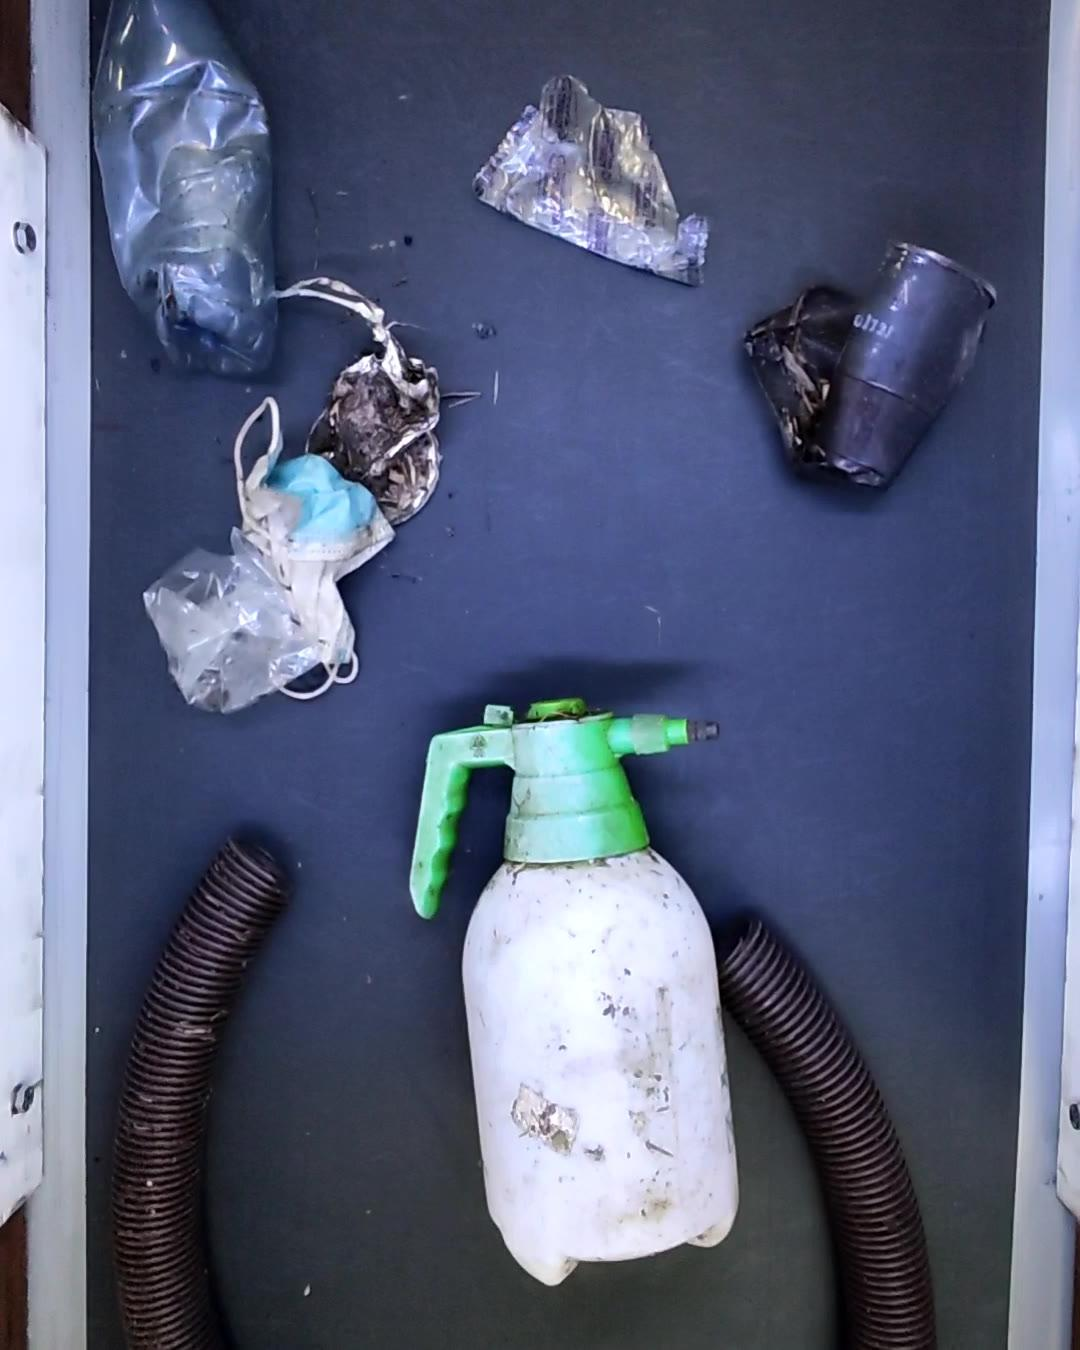Drankflessen - 1-2 liter: (87, 0, 278, 390)
Plastic folies of stukken daarvan 2.5- 50 cm: (473, 75, 709, 289), (138, 531, 309, 715)
